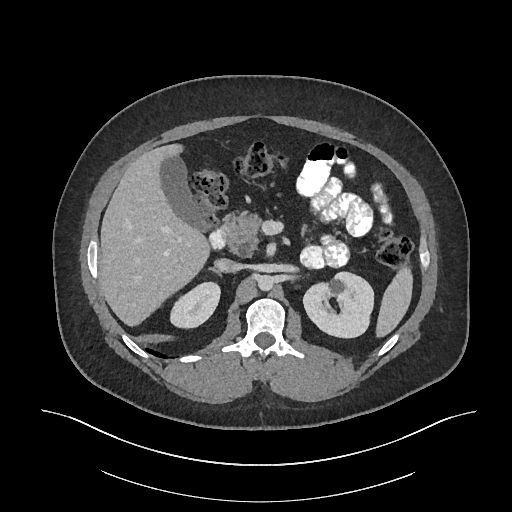Lesion: (325, 276, 346, 295)
